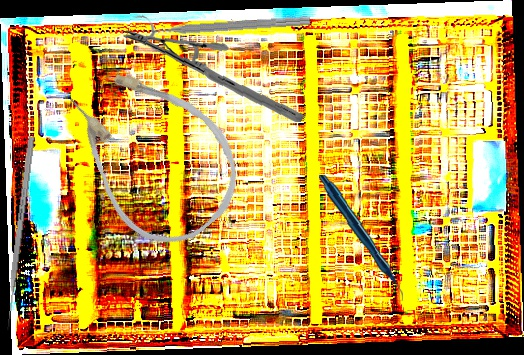Cannula: (41, 37, 264, 267)
Fixation Ring: (131, 1, 311, 43)
Handpiece: (314, 174, 408, 302)
Needle Holder: (122, 21, 305, 131)
Pusher: (4, 136, 35, 331)
